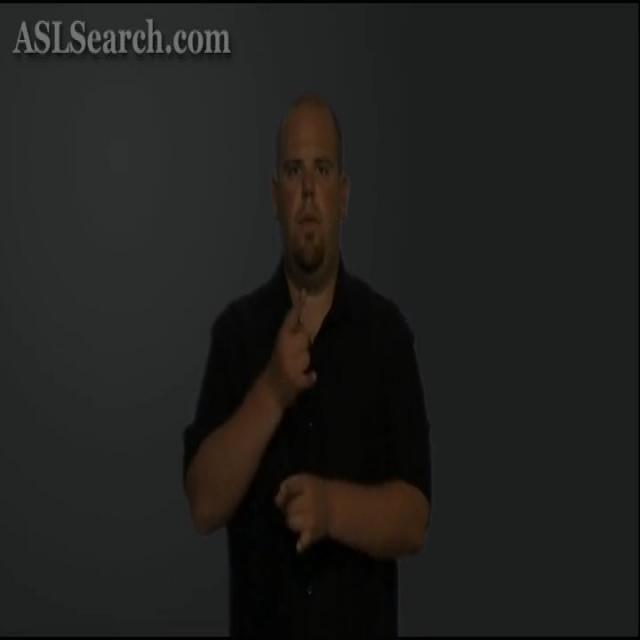alcohol: (263, 280, 334, 566)
